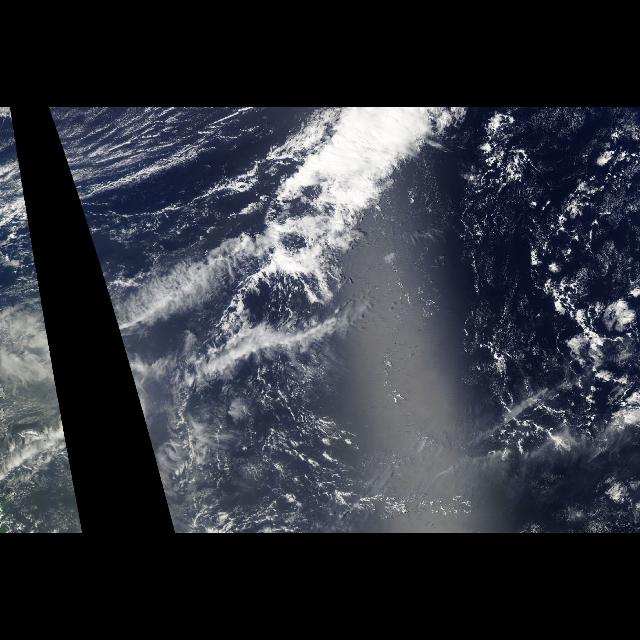Sugar: (48, 107, 250, 225), (4, 107, 30, 225)
